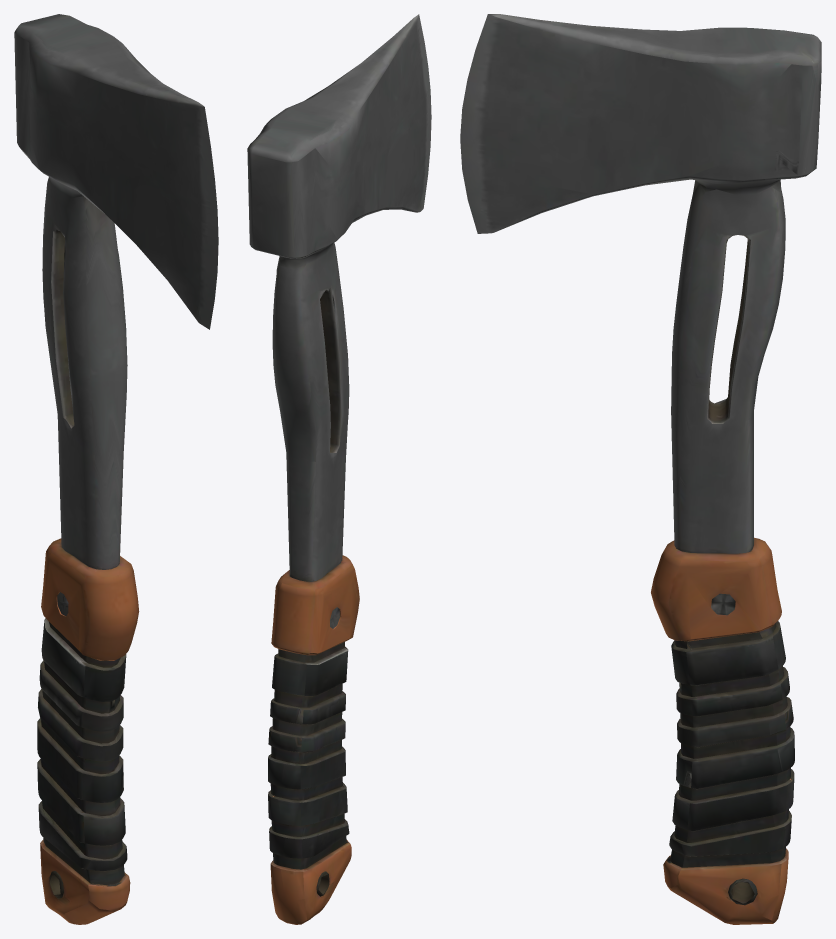
Rendered from hatchet.glb.
3 views of the same model, side by side, from view 1: azimuth 30°, elevation 25°; view 2: azimuth 150°, elevation 25°; view 3: azimuth 270°, elevation 25° (orthographic). The views are drawn at different scales.
Parts seen in each view (by area): view 1: hatchet; view 2: hatchet; view 3: hatchet.
Boxes of the visible parts, left/top/right/bottom form: hatchet: left=14, top=14, right=218, bottom=924; hatchet: left=247, top=14, right=431, bottom=924; hatchet: left=460, top=14, right=821, bottom=924.
Size of the model in its own units: 0.026 by 0.2887 by 0.1043.
1 material, 1 textured.
